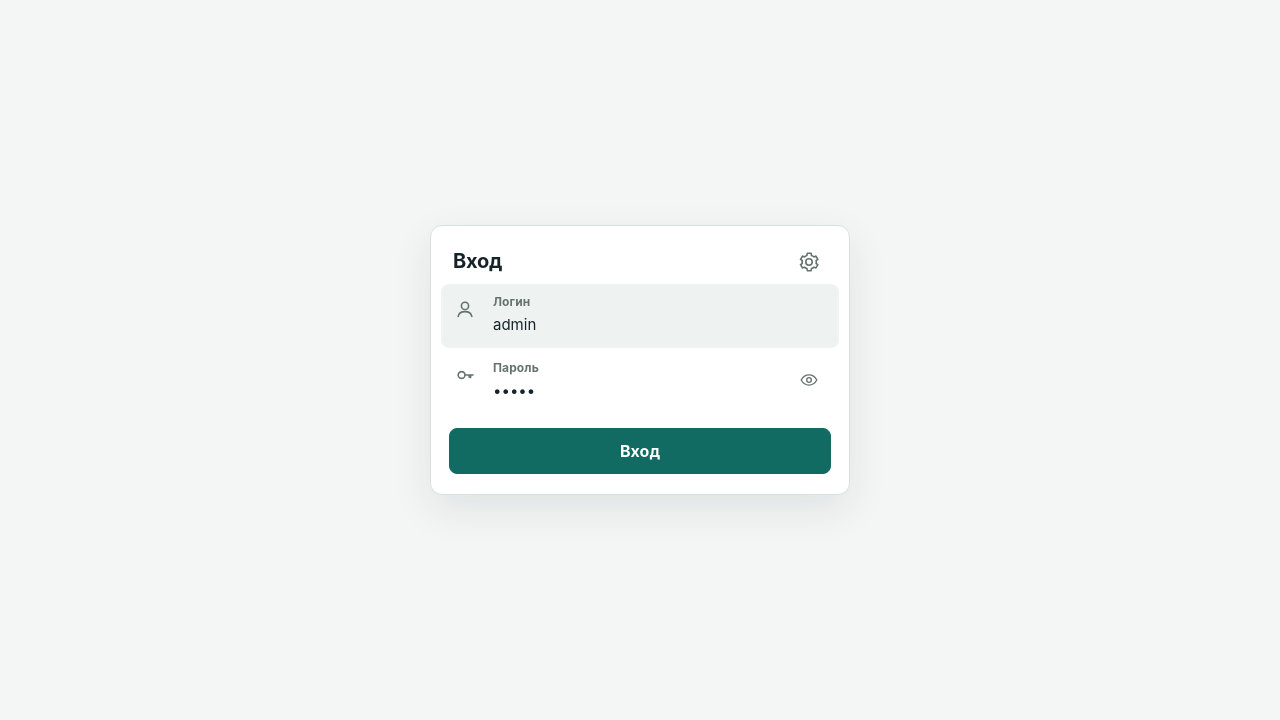
it: LoginPage › switches the interface language and remembers the choice
The image size is (1280, 720).
Click the 1st button with class "icon-button": (809, 262) [791, 244, 827, 280]
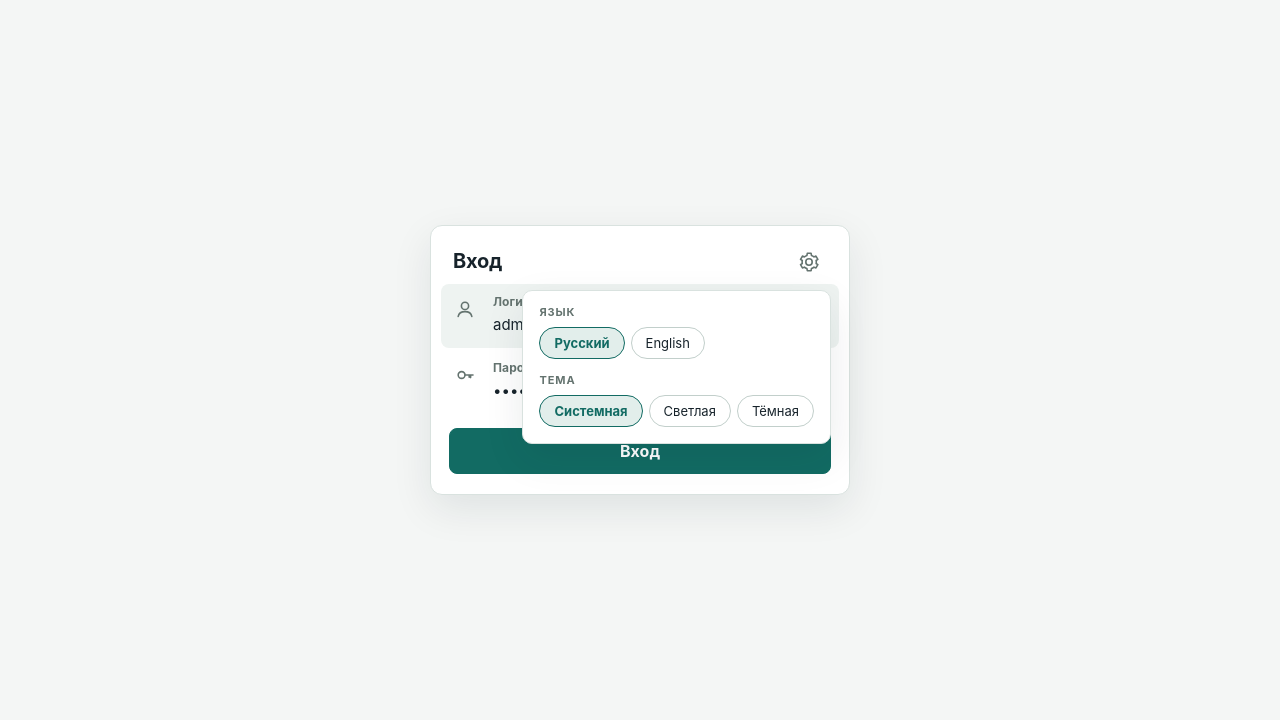
Click the button "English": (668, 343) [631, 327, 705, 359]
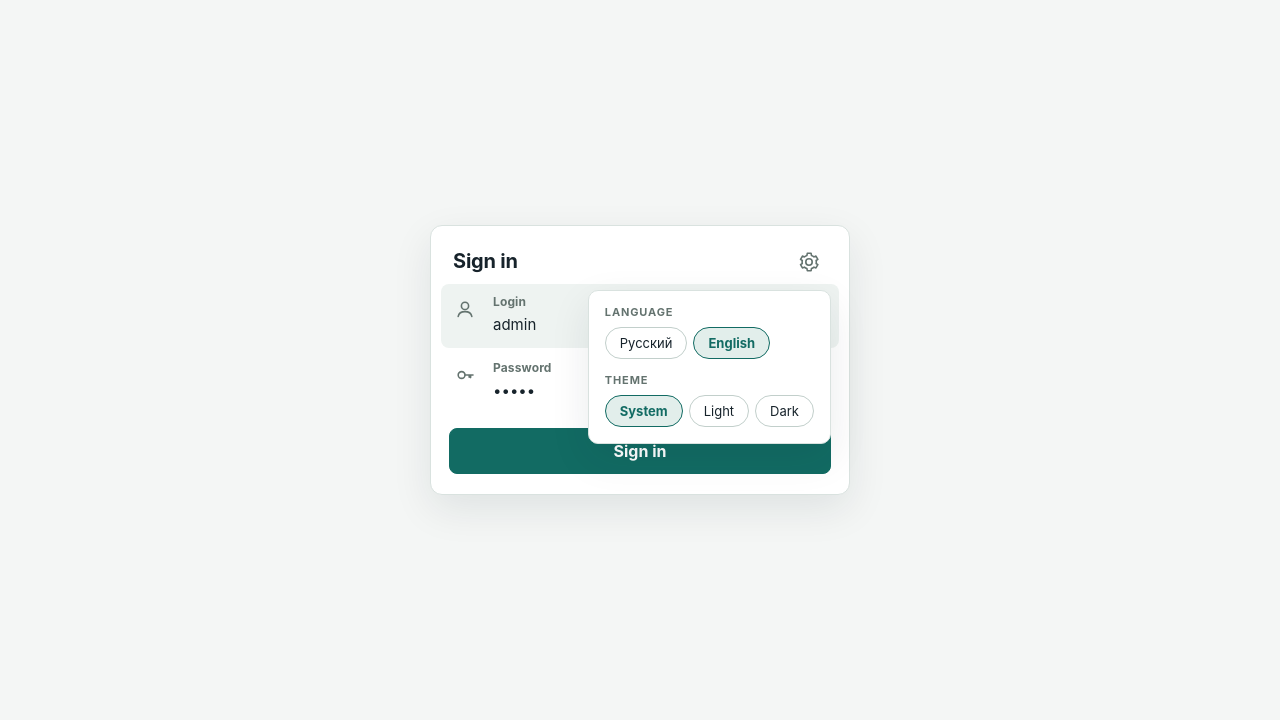
Expected: the heading with class "login-title" reads "Sign in", [453, 249, 518, 273]
